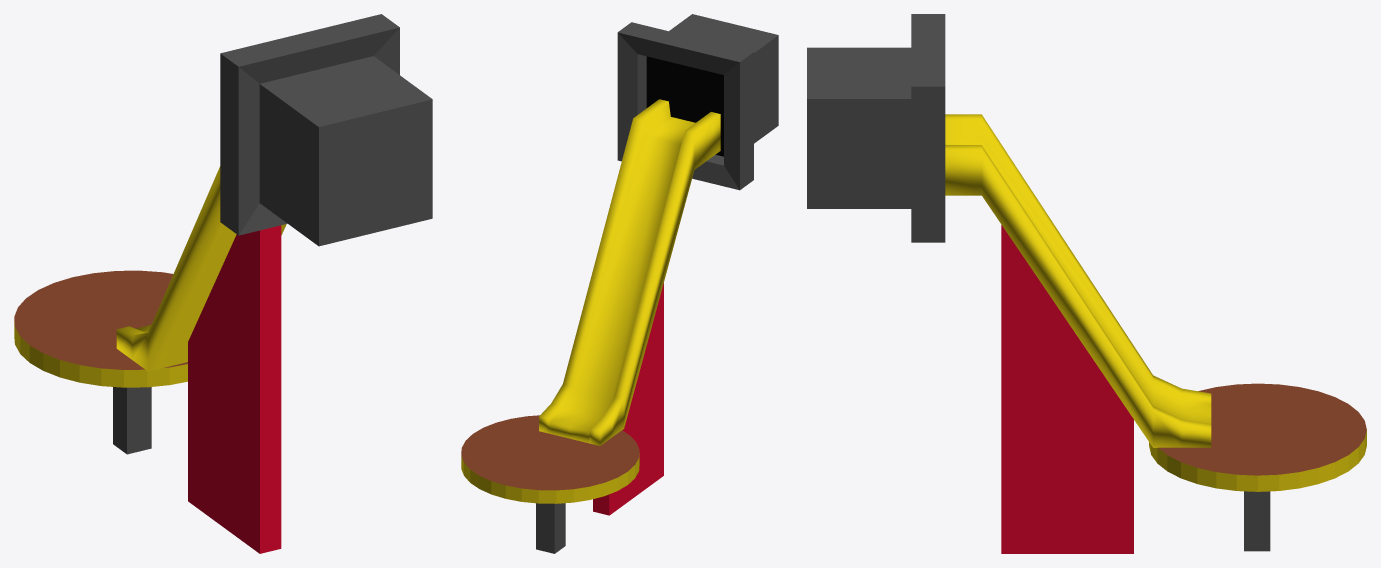
The model's file is Tobogan.fbx.
3 renders of one model, left to right at view 1: azimuth 30°, elevation 25°; view 2: azimuth 150°, elevation 25°; view 3: azimuth 270°, elevation 25°, orthographic. The views are drawn at different scales.
Visible parts, largest first — view 1: Cube, Cube.002, Cylinder, Cube.001, Cube.003; view 2: Cube.001, Cube, Cylinder, Cube.002, Cube.003; view 3: Cube.002, Cube, Cube.001, Cylinder, Cube.003.
Part boxes in pixels (left/top/right/bottom): Cube: left=220, top=14, right=432, bottom=246; Cube.002: left=188, top=225, right=281, bottom=553; Cylinder: left=14, top=270, right=187, bottom=387; Cube.001: left=116, top=166, right=286, bottom=371; Cube.003: left=113, top=387, right=151, bottom=454; Cube.001: left=539, top=99, right=720, bottom=445; Cube: left=617, top=14, right=778, bottom=190; Cylinder: left=461, top=415, right=639, bottom=503; Cube.002: left=593, top=283, right=663, bottom=515; Cube.003: left=536, top=503, right=565, bottom=553; Cube.002: left=1001, top=225, right=1133, bottom=553; Cube: left=807, top=14, right=945, bottom=242; Cube.001: left=945, top=114, right=1211, bottom=447; Cylinder: left=1149, top=383, right=1366, bottom=491; Cube.003: left=1244, top=491, right=1270, bottom=551.
Size of the model in its own units: 267 by 674 by 686.
